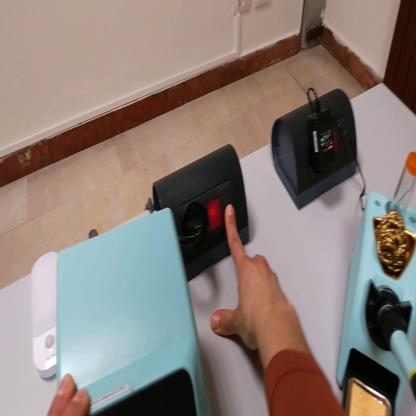hand: (211, 204, 289, 355), (47, 376, 91, 416)
socket: (150, 145, 248, 284), (273, 83, 360, 213)
welder base: (339, 152, 416, 413)
welder probe tip: (381, 307, 415, 396)
welder station: (55, 204, 213, 413)
